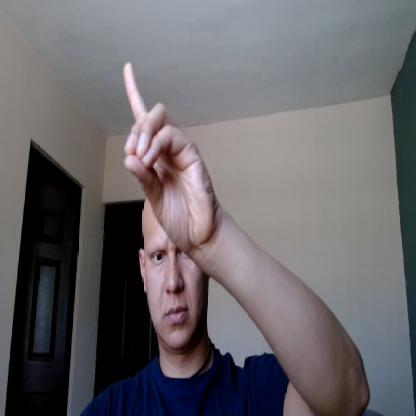D: (122, 62, 216, 250)
